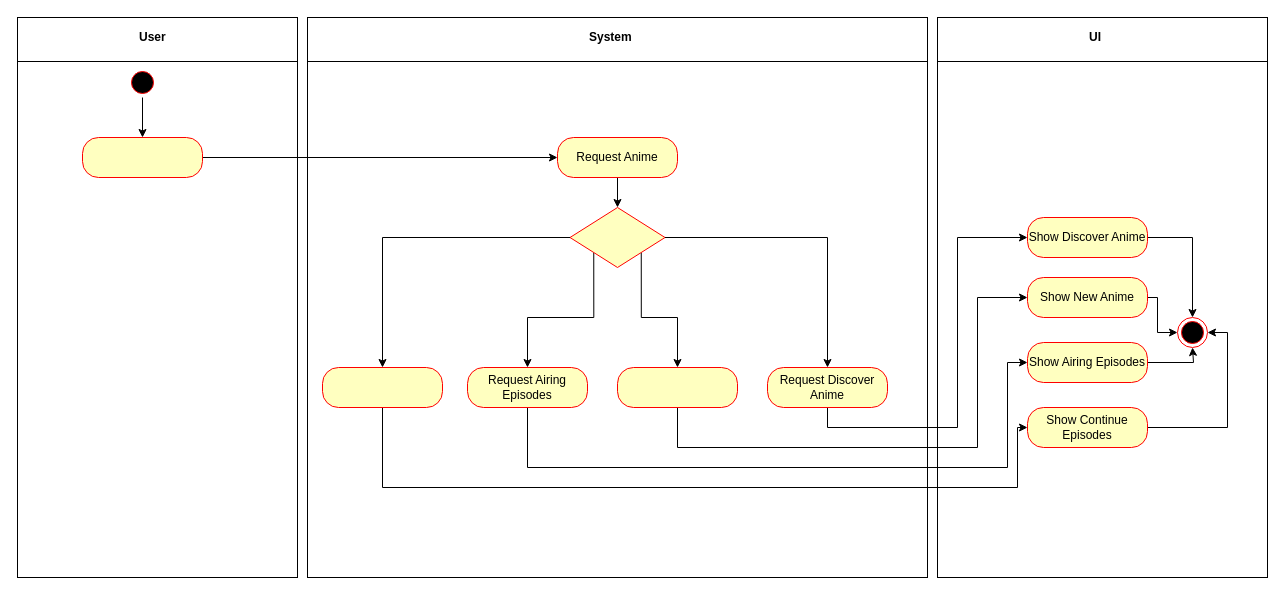
Image size: 1285x595. Some labels were removed from this diagram. Each missing label, with the centre of its shape:
Opens Home Page: (x=142, y=157)
Request Continue Episodes: (x=382, y=387)
Request New Anime: (x=677, y=387)
Types: (x=617, y=237)
